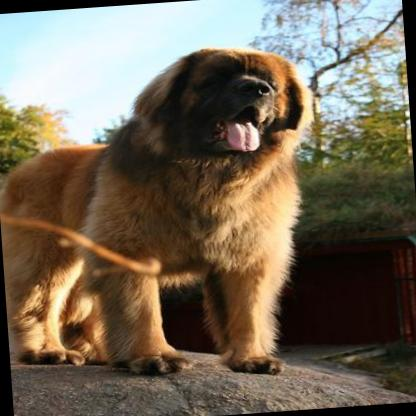Leonberg: (0, 37, 340, 392)
